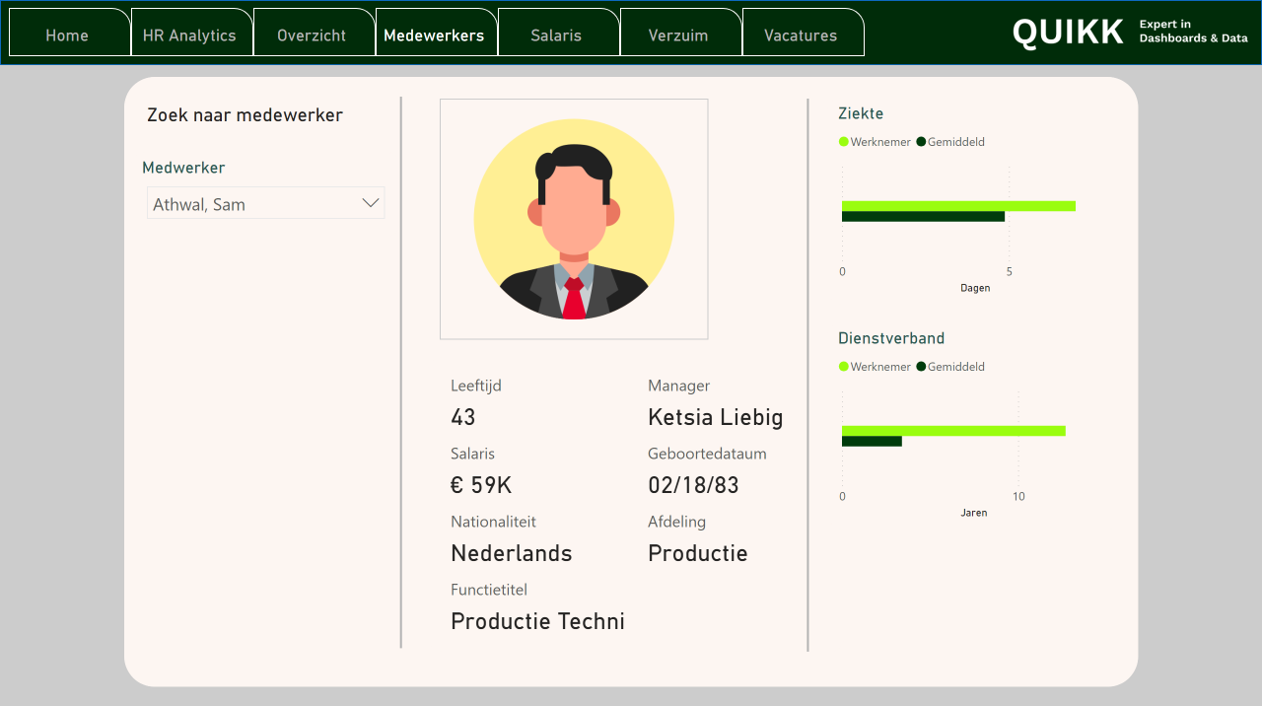

What the dashboard file says about the page in this screenshot:
{"tool":"powerbi","page":{"name":"Medewerkers","canvas":[1280,720],"ordinal":1},"visuals":[{"type":"shape","box":[125.8,77.6,1028.4,618.5],"z":0},{"type":"shape","box":[0,0,1280,66.1],"z":1000},{"type":"image","box":[1018.4,1,255.8,65.2],"z":2000},{"type":"pageNavigator","box":[8.8,7.8,873.4,49.6],"z":3000},{"type":"slicer","title":"Medwerker","fields":{"Values":["hr dataset 4.Employee_Name"]},"box":[133.1,154.1,273.6,86],"z":4000},{"type":"cardVisual","fields":{"Data":["Sum(hr dataset 4.Leeftijd)","Min(hr dataset 4.ManagerNaam)","Sum(hr dataset 4.Salary)","Min(hr dataset 4.Geboortedataum)","Min(hr dataset 4.CitizenDesc)","Min(hr dataset 4.Afdeling)","Min(hr dataset 4.Position)"]},"box":[434,361.7,422.5,298.8],"z":5000},{"type":"image","box":[445.5,99.6,272.6,244.3],"z":6000},{"type":"textbox","box":[143.7,99.6,300.9,43],"z":7000},{"type":"shape","box":[366.6,98.3,79.4,559.4],"z":8000},{"type":"shape","box":[668.8,99.6,300.9,560.9],"z":9000},{"type":"clusteredBarChart","title":"Ziekte","fields":{"Y":["hr dataset 4.Ziek Geselecteerde Werknemer","hr dataset 4.Gemiddeld Ziek Alle Werknemers"]},"box":[838.7,98.5,300.9,209.7],"z":10000},{"type":"clusteredBarChart","title":"Dienstverband","fields":{"Y":["hr dataset 4.Dienstverband Geselecteerde Werknemer","hr dataset 4.Gemiddeld Dienstverband Alle Werknemers"]},"box":[838.7,327.1,300.9,209.7],"z":11000}]}

Visuals, with their boxes on the page's 1280x720 design canvas (x1, y1, x2, y2). These are canvas units, not pixel positions in the 1262x706 screenshot, which may show the page scaled, cropped or inside an application window:
shape: 126:78:1154:696
shape: 0:0:1280:66
image: 1018:1:1274:66
pageNavigator: 9:8:882:57
"Medwerker" slicer: 133:154:407:240
cardVisual - Sum(hr dataset 4.Leeftijd) x Min(hr dataset 4.ManagerNaam): 434:362:856:660
image: 446:100:718:344
textbox: 144:100:445:143
shape: 367:98:446:658
shape: 669:100:970:660
"Ziekte" clusteredBarChart: 839:98:1140:308
"Dienstverband" clusteredBarChart: 839:327:1140:537
